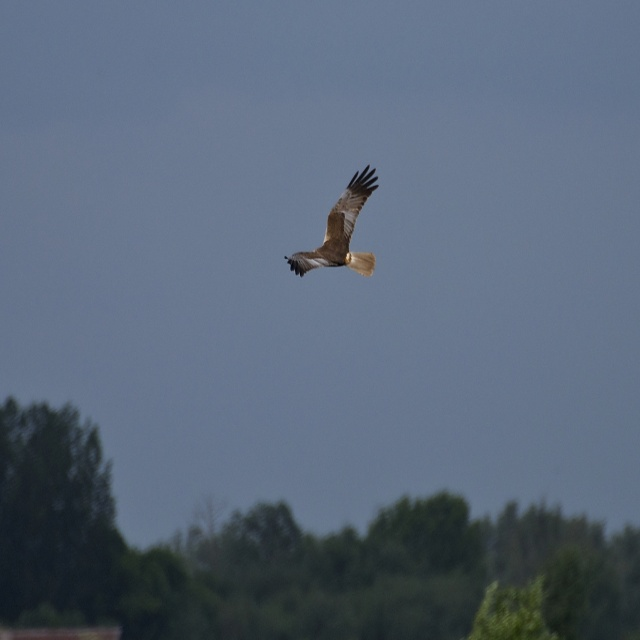Eagle: (277, 161, 386, 287)
